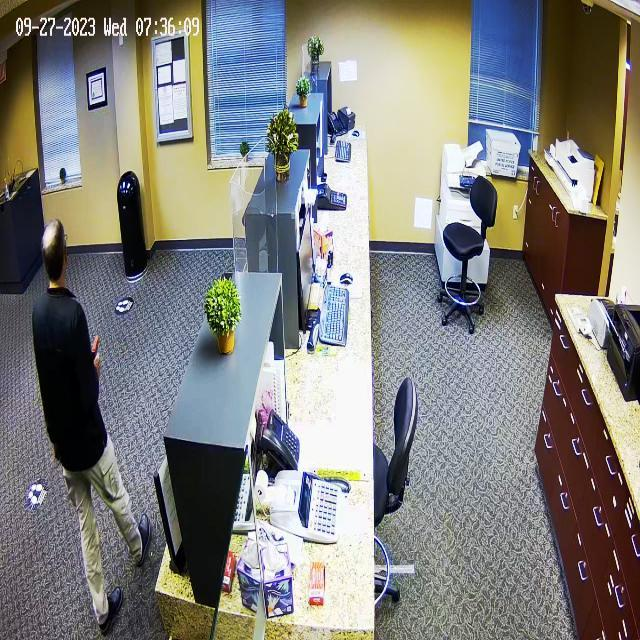Gun: (90, 331, 112, 369)
